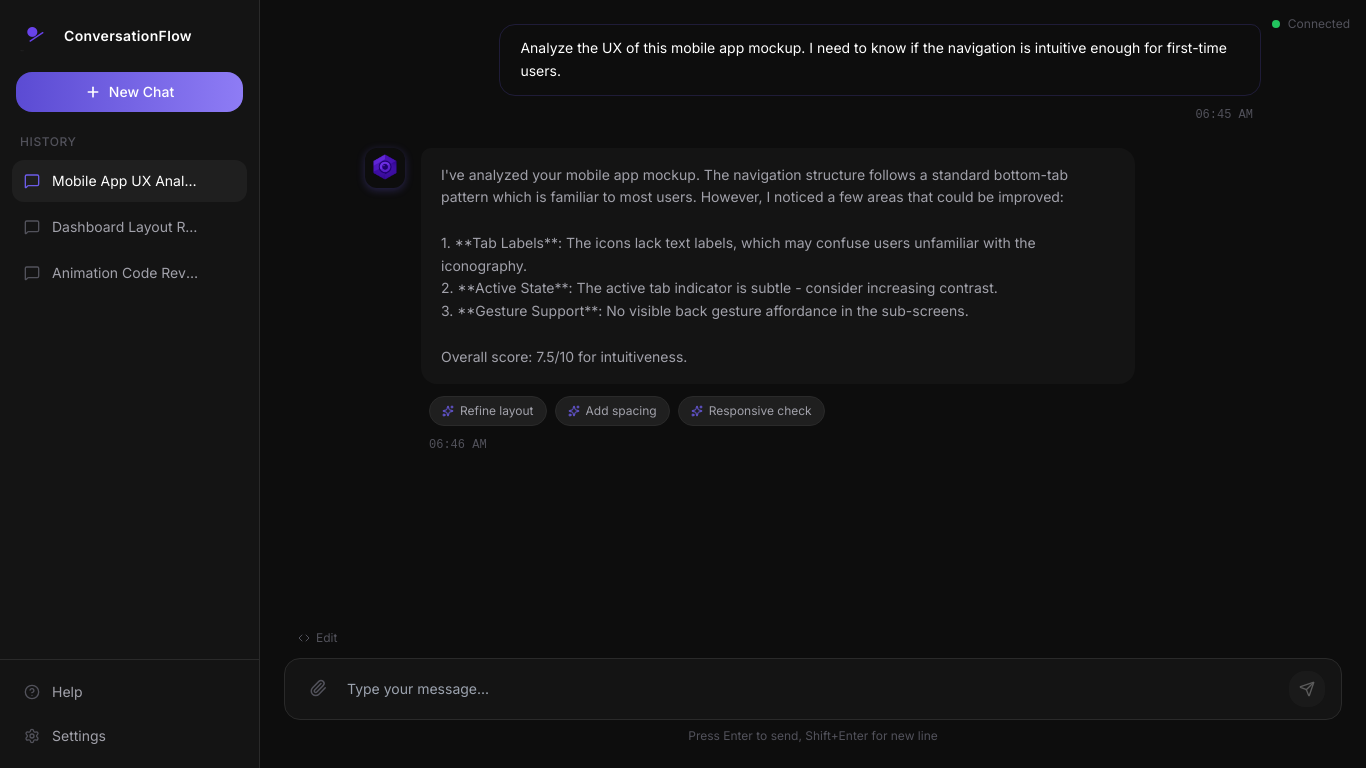
Scenario: App integration › creates a new conversation and shows it in sidebar
Click the button "New Chat": [130, 92] box [16,72,243,112]
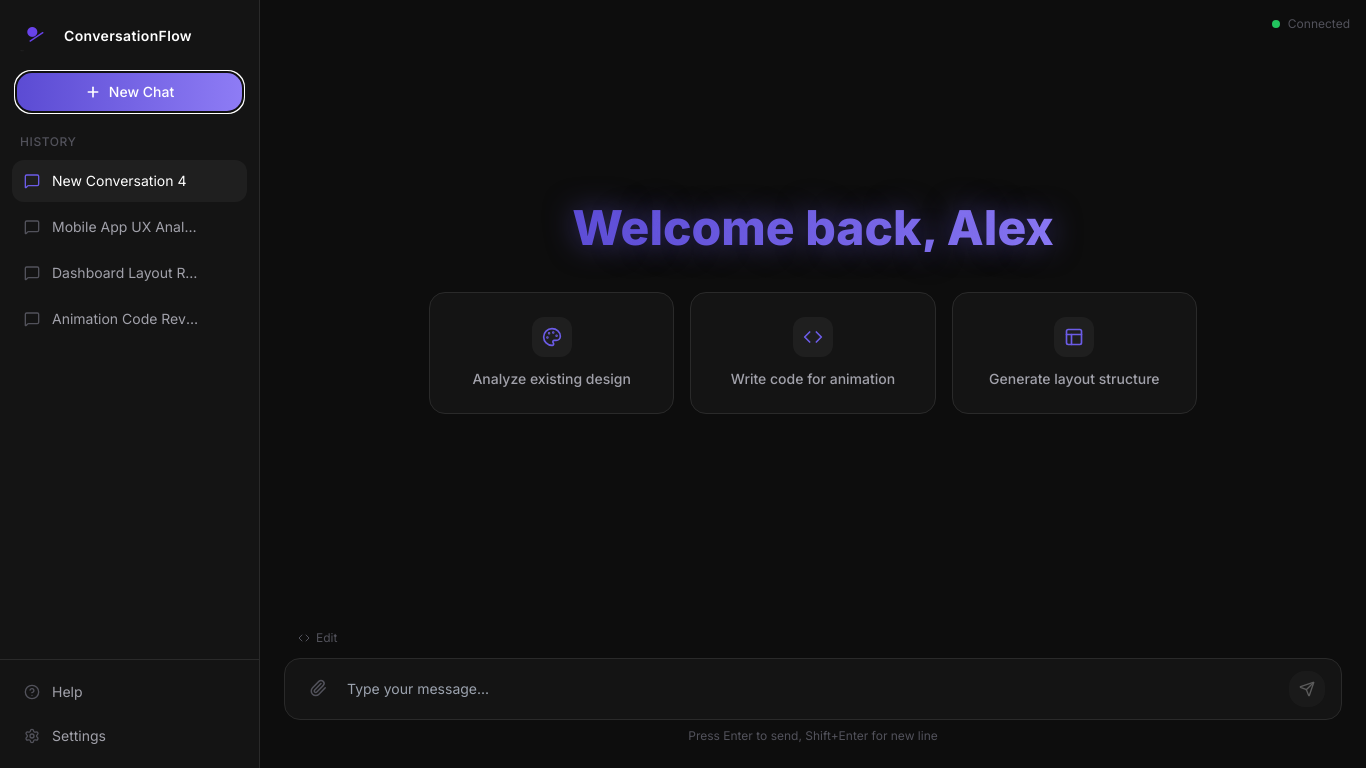
Expected: the text "New Conversation 4" is shown, [52,171,201,191]
